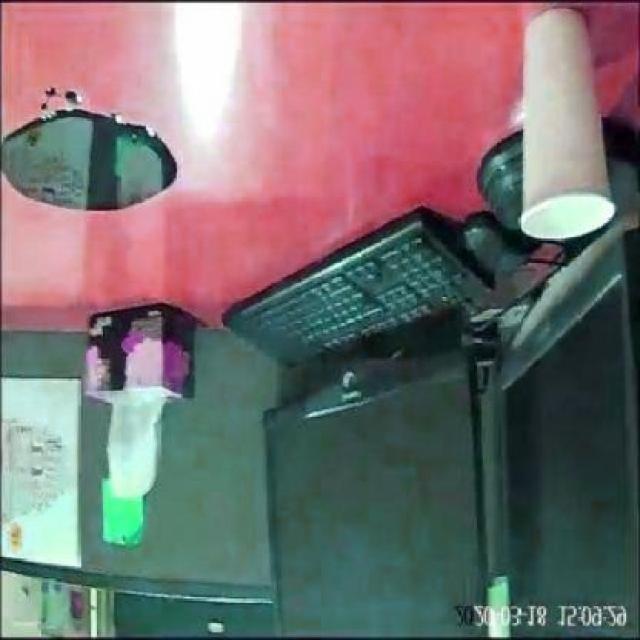spillage: (2, 97, 180, 211)
